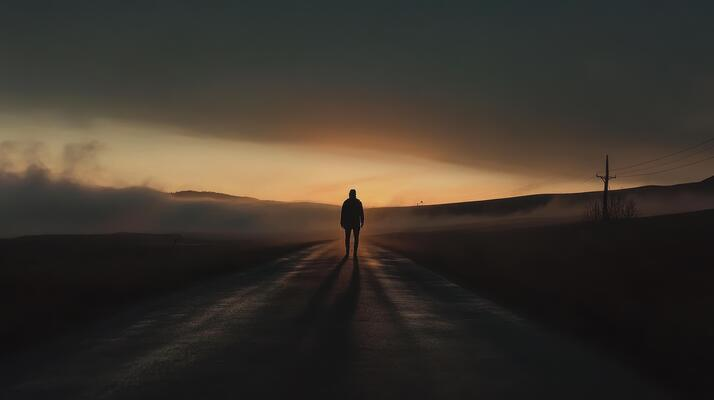Person: (335, 186, 374, 264)
